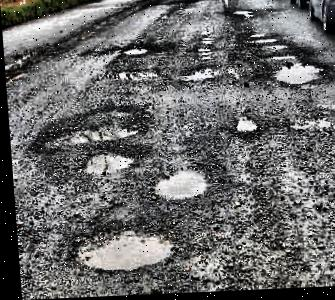pothole: (63, 221, 174, 273), (34, 107, 147, 148), (144, 164, 207, 204), (69, 146, 135, 178), (270, 62, 325, 88), (230, 117, 257, 135), (119, 47, 148, 57), (231, 9, 254, 20), (253, 37, 277, 45), (261, 45, 286, 51)
